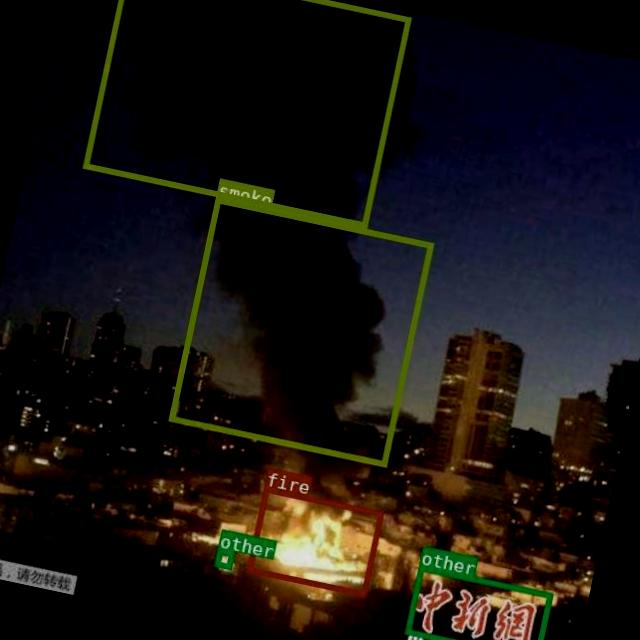fire: (245, 486, 382, 596)
smoke: (81, 0, 409, 226), (168, 196, 432, 465)
